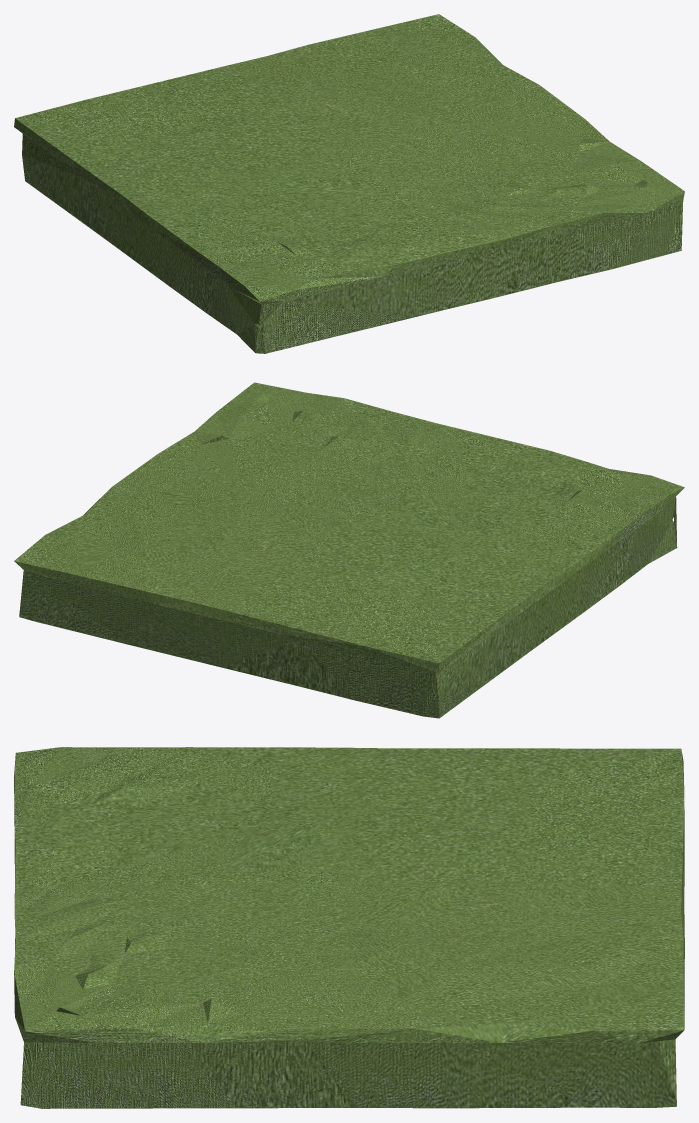
Rendered from Grassland.obj.
3 renders of one model, top to bottom at view 1: azimuth 30°, elevation 25°; view 2: azimuth 150°, elevation 25°; view 3: azimuth 270°, elevation 25°, orthographic. The views are drawn at different scales.
Visible parts, largest first — view 1: tripo_node_8e781f08-54cc-42ad-b1ab-d6524ca1b3e9; view 2: tripo_node_8e781f08-54cc-42ad-b1ab-d6524ca1b3e9; view 3: tripo_node_8e781f08-54cc-42ad-b1ab-d6524ca1b3e9.
Boxes of the visible parts, x1,y1,x2,y2 form: tripo_node_8e781f08-54cc-42ad-b1ab-d6524ca1b3e9: (14, 14, 684, 353); tripo_node_8e781f08-54cc-42ad-b1ab-d6524ca1b3e9: (14, 382, 684, 718); tripo_node_8e781f08-54cc-42ad-b1ab-d6524ca1b3e9: (14, 747, 684, 1108).
Bounding box in the file's own units: 0.996 × 0.1481 × 0.9931.
1 material, 1 textured.
